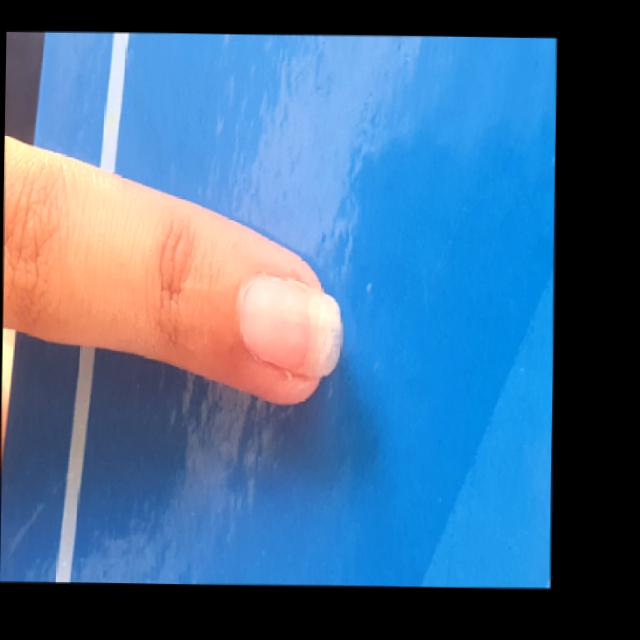Nail: (242, 277, 341, 376)
